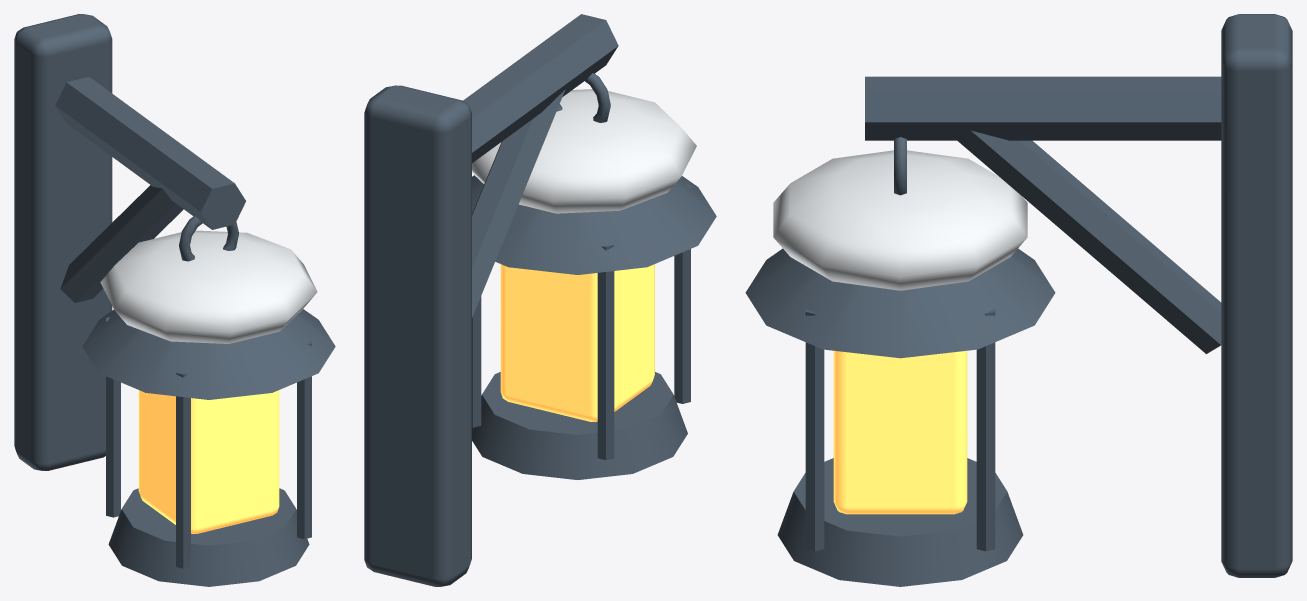
Rendered from alpine-snow-village-bracket-wall-lantern-7fec256d__19807.glb.
3 views of the same model, side by side, from view 1: azimuth 30°, elevation 25°; view 2: azimuth 150°, elevation 25°; view 3: azimuth 270°, elevation 25° (orthographic). The views are drawn at different scales.
Visible parts, largest first — view 1: bracket-wall-lantern-iron, bracket-wall-lantern-snow, bracket-wall-lantern-amber; view 2: bracket-wall-lantern-iron, bracket-wall-lantern-amber, bracket-wall-lantern-snow; view 3: bracket-wall-lantern-iron, bracket-wall-lantern-snow, bracket-wall-lantern-amber.
Boxes of the visible parts, x1,y1,x2,y2 form: bracket-wall-lantern-iron: (14,14,335,586); bracket-wall-lantern-snow: (100,230,317,343); bracket-wall-lantern-amber: (138,390,279,533); bracket-wall-lantern-iron: (364,14,716,586); bracket-wall-lantern-amber: (500,264,654,421); bracket-wall-lantern-snow: (472,89,696,213); bracket-wall-lantern-iron: (745,14,1292,586); bracket-wall-lantern-snow: (773,150,1027,290); bracket-wall-lantern-amber: (833,350,967,514).
Bounding box in the file's own units: 0.435 × 0.82 × 0.7675.
